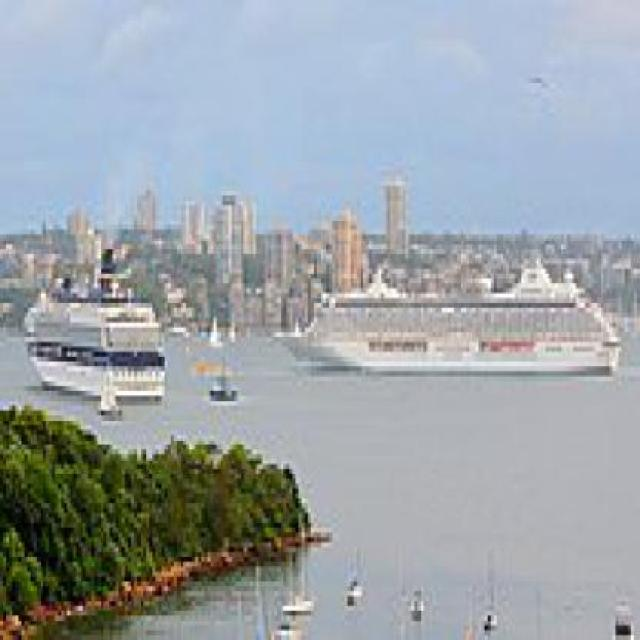cruise: (269, 235, 629, 387), (20, 236, 184, 411)
